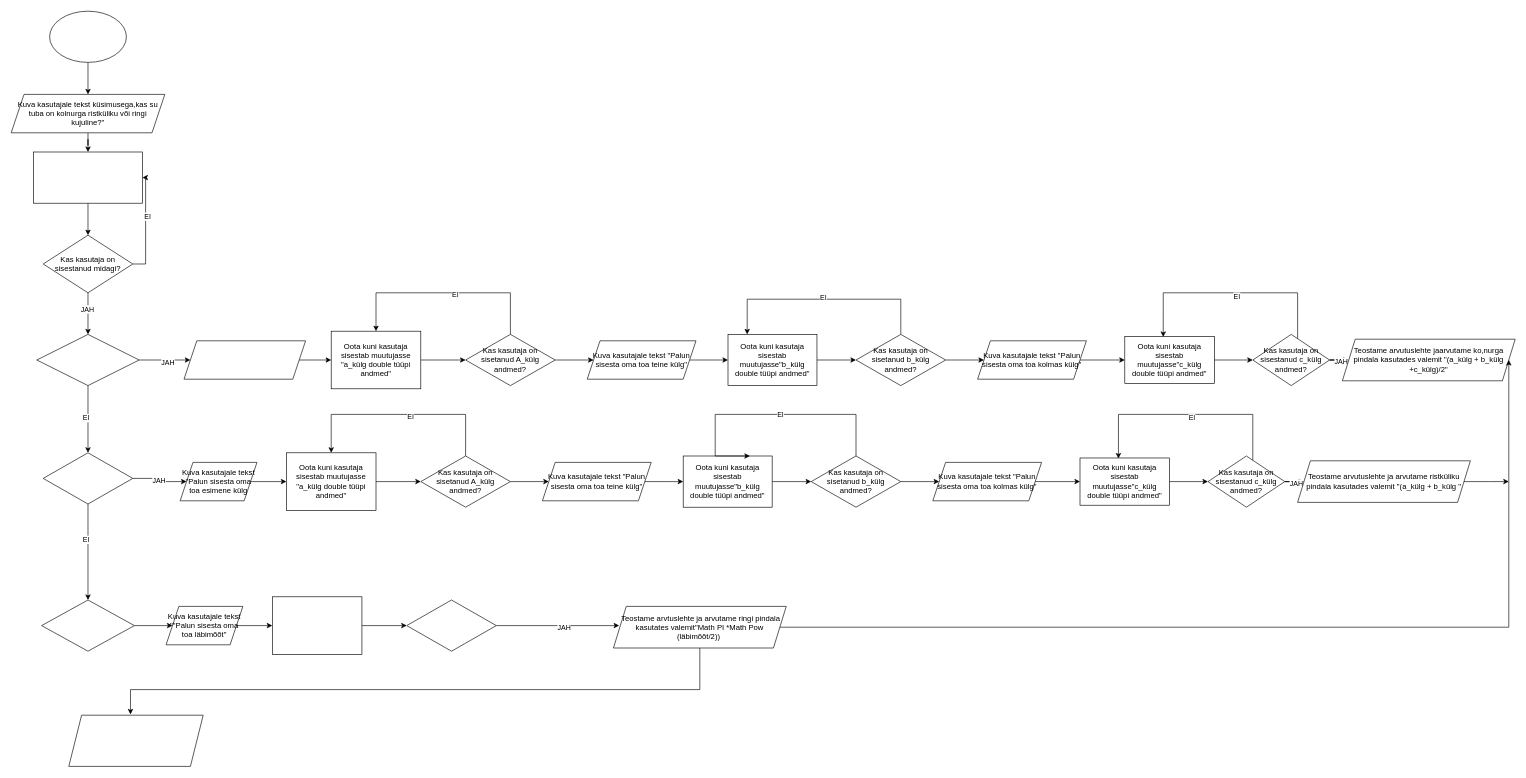
Image size: 1526x778. Some labels were removed from this diagram. Here are the shapes that lost their labels. From the top down, the centre of each, then its label:
pixel 87 36: Algus
pixel 87 177: Ootame kuni kasutaja susestab muutujasse "kujund" vastuse
pixel 87 360: Kas sisestatuf dõna on "kolmnurk"?
pixel 244 359: Kuva kasutajale tekst"Palun sisesta oma toa esimene külg"
pixel 88 478: Kas sisestatud sõna on "ristkülik"?
pixel 87 625: Kas sisestatud sõna on "ring"?
pixel 317 625: Oota kuni kasutaja sisestab muutujasse "läbimõõt" double- tüüpi andmed"
pixel 451 625: Kas kasutaja on sisetanud läbimõõt andmed?
pixel 135 740: Kuvame kasutajale tulemuse lausega "Sinu toa pindala on {tulemus}"
